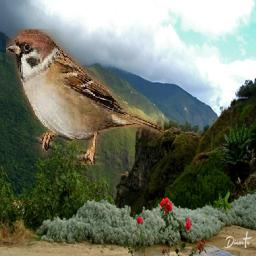Sparrow: (6, 29, 164, 165)
